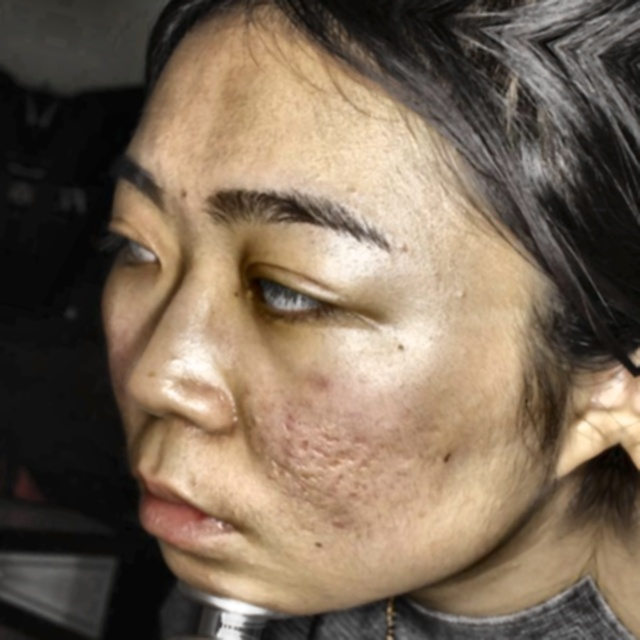comedone: (299, 363, 337, 397)
